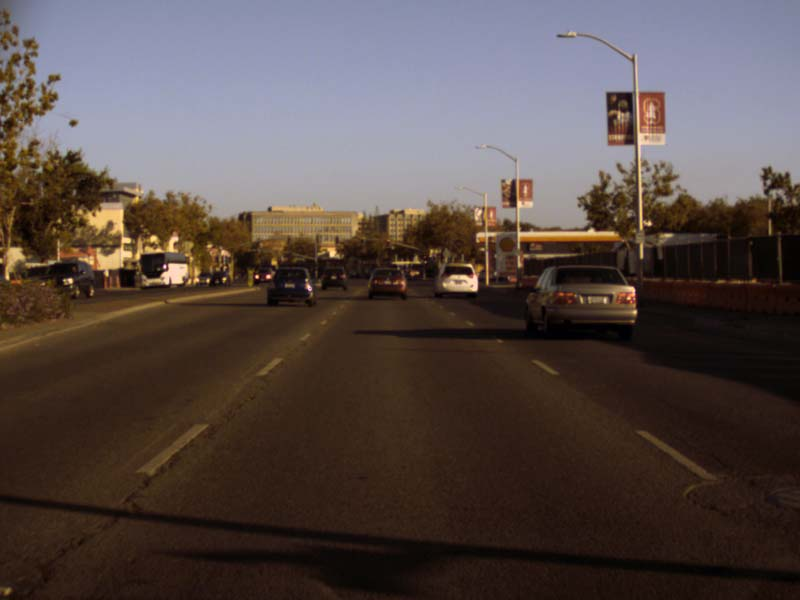Red: (386, 238, 390, 247)
